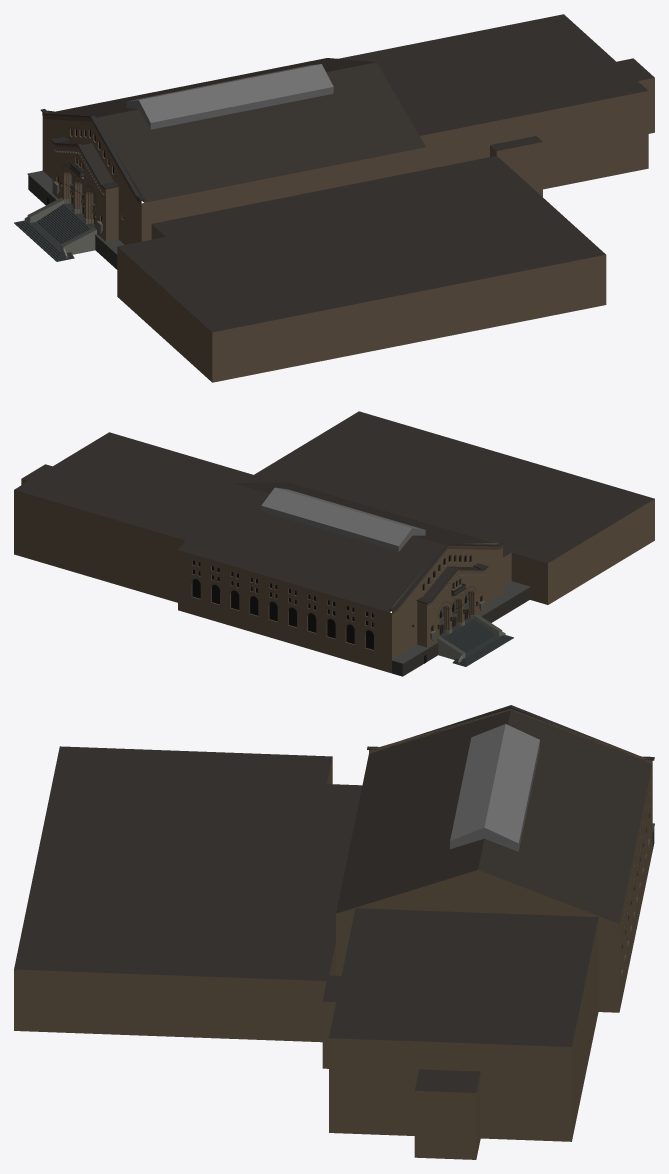
File: gregory-gym-look.glb
The picture shows the model from 3 angles, top to bottom: view 1: azimuth 30°, elevation 25°; view 2: azimuth 150°, elevation 25°; view 3: azimuth 270°, elevation 25°; orthographic projection. The views are drawn at different scales.
Parts seen in each view (by area): view 1: n_roof_membrane, n_wall_brick, n_roof_monitor_white, n_stair_grey, n_coping_dark, n_concrete_grey, n_paint_white, n_base_paint_grey; view 2: n_roof_membrane, n_wall_brick, n_roof_monitor_white, n_glass_window, n_stair_grey, n_base_paint_grey, n_concrete_grey, n_coping_dark, n_brick_ring_outer, n_brick_cornice, n_paint_white, n_window_frame_red; view 3: n_roof_membrane, n_wall_brick, n_roof_monitor_white, n_coping_dark.
Boxes of the visible parts, x1,y1,x2,y2 form: n_roof_membrane: (56,14,654,332); n_wall_brick: (42,78,654,382); n_roof_monitor_white: (126,64,333,129); n_stair_grey: (14,203,94,261); n_coping_dark: (40,109,144,200); n_concrete_grey: (27,170,124,254); n_paint_white: (24,200,96,258); n_base_paint_grey: (28,175,117,269); n_roof_membrane: (14,411,654,612); n_wall_brick: (14,479,654,673); n_roof_monitor_white: (261,487,425,551); n_glass_window: (192,555,481,649); n_stair_grey: (439,618,513,666); n_base_paint_grey: (392,587,529,676); n_concrete_grey: (391,581,529,663); n_coping_dark: (389,541,504,610); n_brick_ring_outer: (190,554,486,636); n_brick_cornice: (392,544,503,613); n_paint_white: (437,616,505,663); n_window_frame_red: (192,555,481,649); n_roof_membrane: (14,710,652,1092); n_wall_brick: (14,708,652,1159); n_roof_monitor_white: (450,724,539,851); n_coping_dark: (367,705,654,760).
Size of the model in its own units: 135 by 26.69 by 104.
